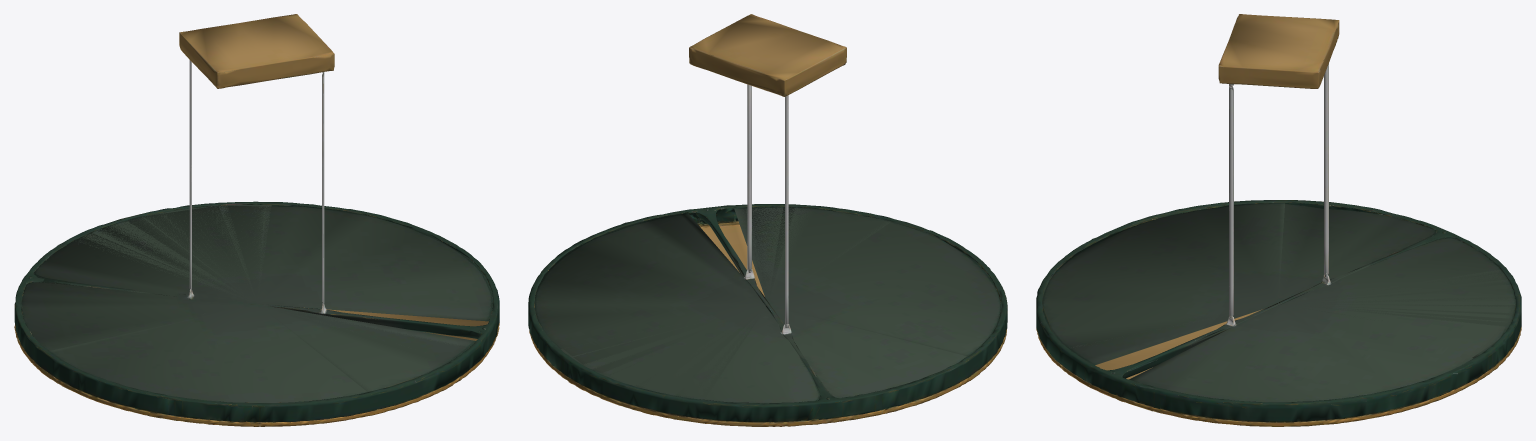
3 renders of one model, left to right at view 1: azimuth 30°, elevation 25°; view 2: azimuth 150°, elevation 25°; view 3: azimuth 270°, elevation 25°, orthographic.
Visible parts, largest first — view 1: tripo_node_b72d7c4b-d1b9-43d4-a48b-ec217958b371; view 2: tripo_node_b72d7c4b-d1b9-43d4-a48b-ec217958b371; view 3: tripo_node_b72d7c4b-d1b9-43d4-a48b-ec217958b371.
Part boxes in pixels (box(x1,y1,x2,y2)): tripo_node_b72d7c4b-d1b9-43d4-a48b-ec217958b371: box(14, 14, 499, 426); tripo_node_b72d7c4b-d1b9-43d4-a48b-ec217958b371: box(528, 14, 1007, 426); tripo_node_b72d7c4b-d1b9-43d4-a48b-ec217958b371: box(1036, 14, 1521, 426).
Bounding box in the file's own units: 0.4 × 0.256 × 0.4.
1 material, 1 textured.
